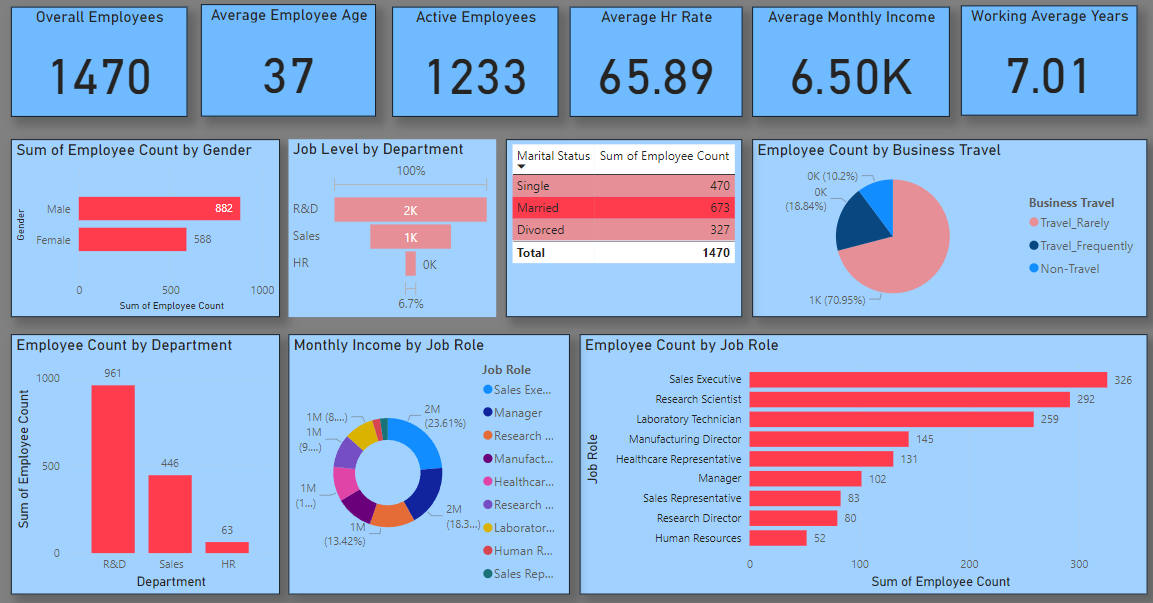

The dashboard page shown, as its layout file describes it:
{"tool":"powerbi","page":{"name":"Basics","canvas":[1280,720],"ordinal":0},"visuals":[{"type":"shape","title":"HR Analytics Dashboard","box":[0,0,1280.3,42.5],"z":0},{"type":"card","title":"Overall Employees","fields":{"Values":["Sum(HR data.Employee Count)"]},"box":[16.5,59,193.5,120.8],"z":1000},{"type":"barChart","title":"Employee Count by Job Role","fields":{"Y":["Sum(HR data.Employee Count)"],"Category":["HR data.Job Role"]},"box":[640.8,418.5,623,285.4],"z":2000},{"type":"card","title":"Average Employee Age","fields":{"Values":["Avg(HR data.Age)"]},"box":[225,56.3,192.1,123.5],"z":3000},{"type":"clusteredColumnChart","title":" Employee Count by Department","fields":{"Y":["Sum(HR data.Employee Count)"],"Category":["HR data.Department"]},"box":[16.5,418.5,295,285.4],"z":4000},{"type":"pieChart","title":"Employee Count by Business Travel","fields":{"Y":["Sum(HR data.Employee Count)"],"Category":["HR data.Business Travel"]},"box":[830.2,204.5,433.6,194.9],"z":5000},{"type":"card","title":"Active Employees","fields":{"Values":["Sum(HR data.CF_current Employee)"]},"box":[435,59,182.5,120.8],"z":6000},{"type":"card","title":"Average Hr Rate","fields":{"Values":["Avg(HR data.Hourly Rate)"]},"box":[629.8,59,189.4,120.8],"z":7000},{"type":"tableEx","fields":{"Values":["HR data.Marital Status","Sum(HR data.Employee Count)"]},"box":[559.9,204.5,259.3,194.9],"z":8000},{"type":"clusteredBarChart","fields":{"Category":["HR data.Gender"],"Y":["Sum(HR data.Employee Count)"]},"box":[16.5,204.5,295,194.9],"z":9000},{"type":"card","title":"Average Monthly Income","fields":{"Values":["Avg(HR data.Monthly Income)"]},"box":[830.2,59,216.8,120.8],"z":10000},{"type":"donutChart","title":" Monthly Income by Job Role","fields":{"Category":["HR data.Job Role"],"Y":["Sum(HR data.Monthly Income)"]},"box":[321.1,418.5,308.7,285.4],"z":11000},{"type":"funnel","title":"Job Level by Department","fields":{"Y":["Sum(HR data.Job Level)"],"Category":["HR data.Department"]},"box":[321.1,204.5,227.8,194.9],"z":12000},{"type":"card","title":"Working Average Years","fields":{"Values":["Avg(HR data.Years At Company)"]},"box":[1059.4,57.6,193.5,120.8],"z":12001}]}

Visuals, with their boxes on the page's 1280x720 design canvas (x1, y1, x2, y2). These are canvas units, not pixel positions in the 1153x603 screenshot, which may show the page scaled, cropped or inside an application window:
"HR Analytics Dashboard" shape: locate(0, 0, 1280, 42)
"Overall Employees" card: locate(16, 59, 210, 180)
"Employee Count by Job Role" barChart: locate(641, 418, 1264, 704)
"Average Employee Age" card: locate(225, 56, 417, 180)
" Employee Count by Department" clusteredColumnChart: locate(16, 418, 312, 704)
"Employee Count by Business Travel" pieChart: locate(830, 204, 1264, 399)
"Active Employees" card: locate(435, 59, 618, 180)
"Average Hr Rate" card: locate(630, 59, 819, 180)
tableEx - HR data.Marital Status x Sum(HR data.Employee Count): locate(560, 204, 819, 399)
clusteredBarChart - HR data.Gender x Sum(HR data.Employee Count): locate(16, 204, 312, 399)
"Average Monthly Income" card: locate(830, 59, 1047, 180)
" Monthly Income by Job Role" donutChart: locate(321, 418, 630, 704)
"Job Level by Department" funnel: locate(321, 204, 549, 399)
"Working Average Years" card: locate(1059, 58, 1253, 178)
